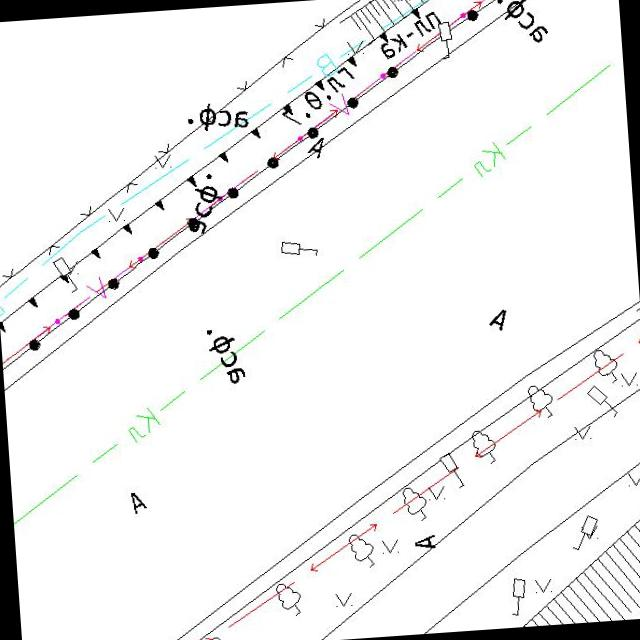asphalt: (203, 323, 249, 388), (494, 0, 550, 47), (184, 98, 250, 134), (182, 182, 226, 236), (486, 306, 512, 334), (127, 488, 151, 516), (304, 136, 328, 162), (412, 532, 439, 552)
sing: (584, 382, 620, 421), (568, 512, 602, 552), (51, 252, 80, 296), (438, 449, 466, 491), (506, 575, 530, 619), (279, 236, 321, 261), (437, 19, 458, 61)
tree: (346, 530, 377, 570), (526, 382, 556, 421), (470, 427, 500, 466), (274, 580, 304, 619), (401, 484, 430, 524), (592, 346, 621, 384)
